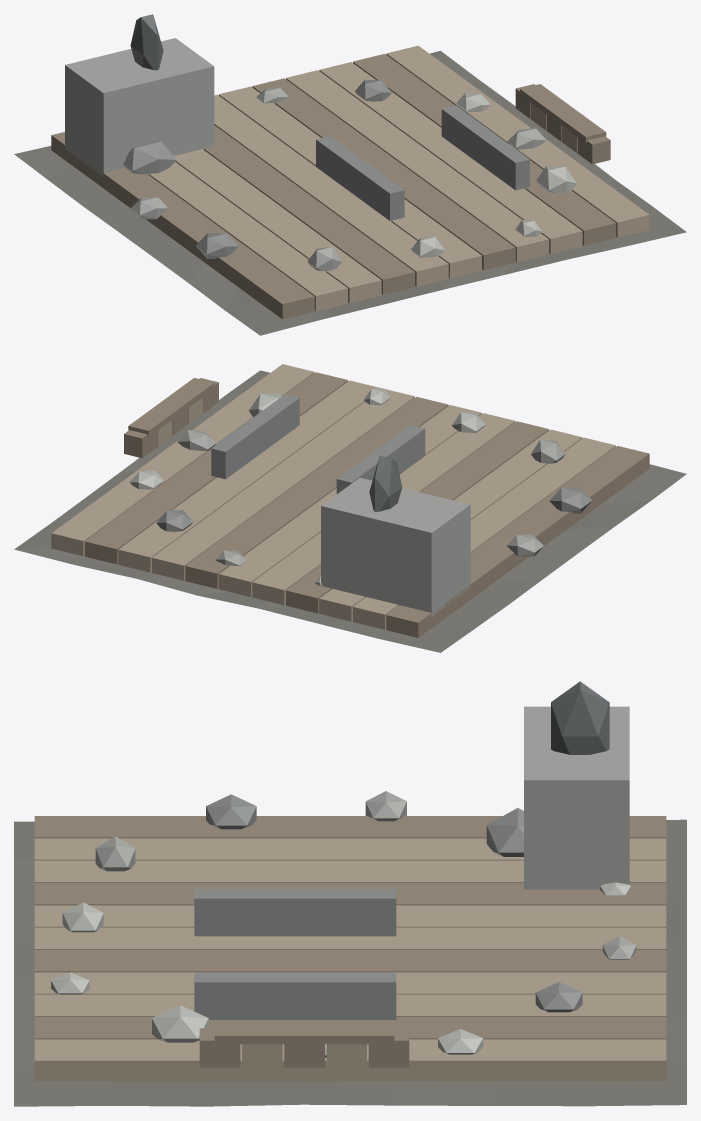
The model's file is inn_floor_cellar_revealed.glb.
The picture shows the model from 3 angles, top to bottom: view 1: azimuth 30°, elevation 25°; view 2: azimuth 150°, elevation 25°; view 3: azimuth 270°, elevation 25°; orthographic projection. The views are drawn at different scales.
Visible parts, largest first — view 1: inn_floor_cellar_revealed_color_05, inn_floor_cellar_revealed_color_04, inn_floor_cellar_revealed_color_01, inn_floor_cellar_revealed_color_00, inn_floor_cellar_revealed_color_03, inn_floor_cellar_revealed_color_02, inn_floor_cellar_revealed_color_06; view 2: inn_floor_cellar_revealed_color_05, inn_floor_cellar_revealed_color_04, inn_floor_cellar_revealed_color_01, inn_floor_cellar_revealed_color_00, inn_floor_cellar_revealed_color_03, inn_floor_cellar_revealed_color_02, inn_floor_cellar_revealed_color_06; view 3: inn_floor_cellar_revealed_color_05, inn_floor_cellar_revealed_color_04, inn_floor_cellar_revealed_color_00, inn_floor_cellar_revealed_color_03, inn_floor_cellar_revealed_color_01, inn_floor_cellar_revealed_color_02, inn_floor_cellar_revealed_color_06.
Part boxes in pixels (<box>): inn_floor_cellar_revealed_color_05: <box>149,45,649,311</box>; inn_floor_cellar_revealed_color_04: <box>51,54,615,319</box>; inn_floor_cellar_revealed_color_01: <box>65,38,546,271</box>; inn_floor_cellar_revealed_color_00: <box>14,51,686,335</box>; inn_floor_cellar_revealed_color_03: <box>123,79,529,258</box>; inn_floor_cellar_revealed_color_02: <box>411,93,576,257</box>; inn_floor_cellar_revealed_color_06: <box>130,14,163,70</box>; inn_floor_cellar_revealed_color_05: <box>51,364,615,629</box>; inn_floor_cellar_revealed_color_04: <box>85,372,649,637</box>; inn_floor_cellar_revealed_color_01: <box>177,430,565,616</box>; inn_floor_cellar_revealed_color_00: <box>14,370,686,652</box>; inn_floor_cellar_revealed_color_03: <box>156,394,592,531</box>; inn_floor_cellar_revealed_color_02: <box>129,388,485,586</box>; inn_floor_cellar_revealed_color_06: <box>369,456,402,511</box>; inn_floor_cellar_revealed_color_05: <box>34,838,666,1081</box>; inn_floor_cellar_revealed_color_04: <box>34,816,666,1067</box>; inn_floor_cellar_revealed_color_00: <box>14,819,686,1106</box>; inn_floor_cellar_revealed_color_03: <box>194,794,582,1019</box>; inn_floor_cellar_revealed_color_01: <box>95,706,636,1057</box>; inn_floor_cellar_revealed_color_02: <box>51,882,631,1054</box>; inn_floor_cellar_revealed_color_06: <box>551,681,609,754</box>.
Bounding box in the file's own units: 2.93 × 1.15 × 2.93.
